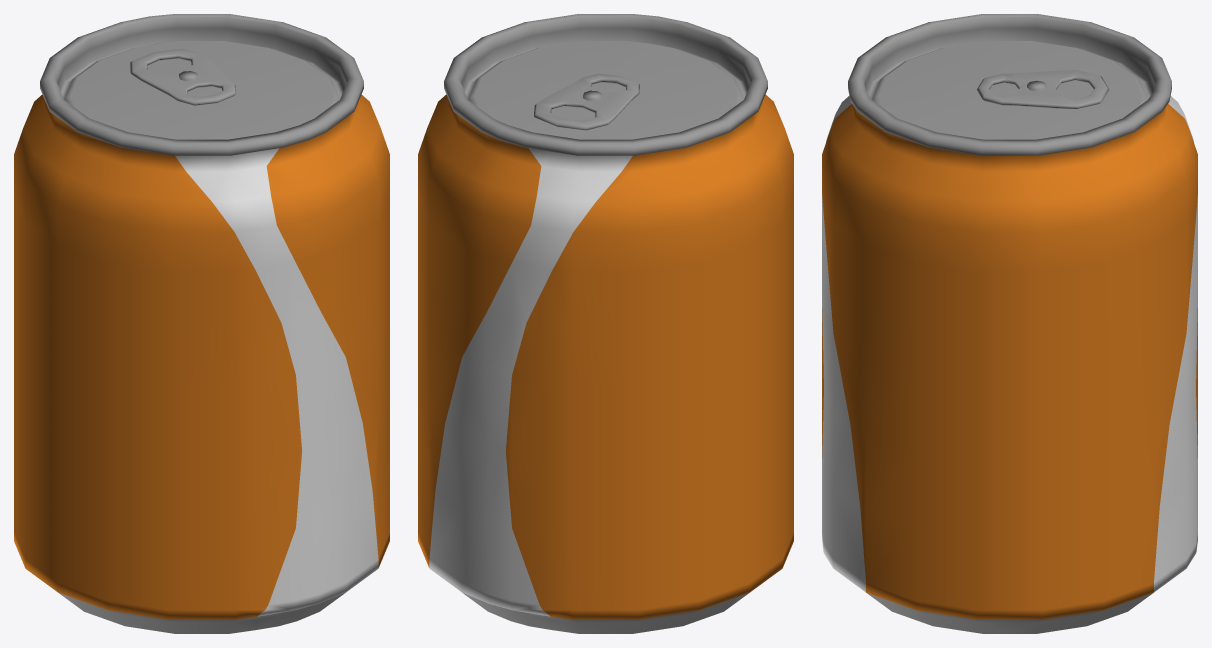
File: Coke5_anim01.fbx
The picture shows the model from 3 angles, left to right: view 1: azimuth 30°, elevation 25°; view 2: azimuth 150°, elevation 25°; view 3: azimuth 270°, elevation 25°; orthographic projection.
Visible parts, largest first — view 1: coke5; view 2: coke5; view 3: coke5.
Boxes of the visible parts, <box> form: coke5: <box>14,14,389,633</box>; coke5: <box>418,14,793,633</box>; coke5: <box>822,14,1197,633</box>.
Bounding box in the file's own units: 2.84 × 4.16 × 2.89.
